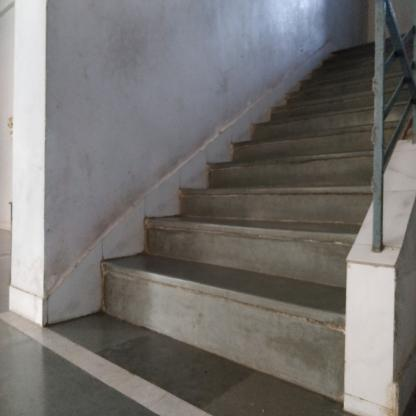stairs: (212, 173, 345, 407)
